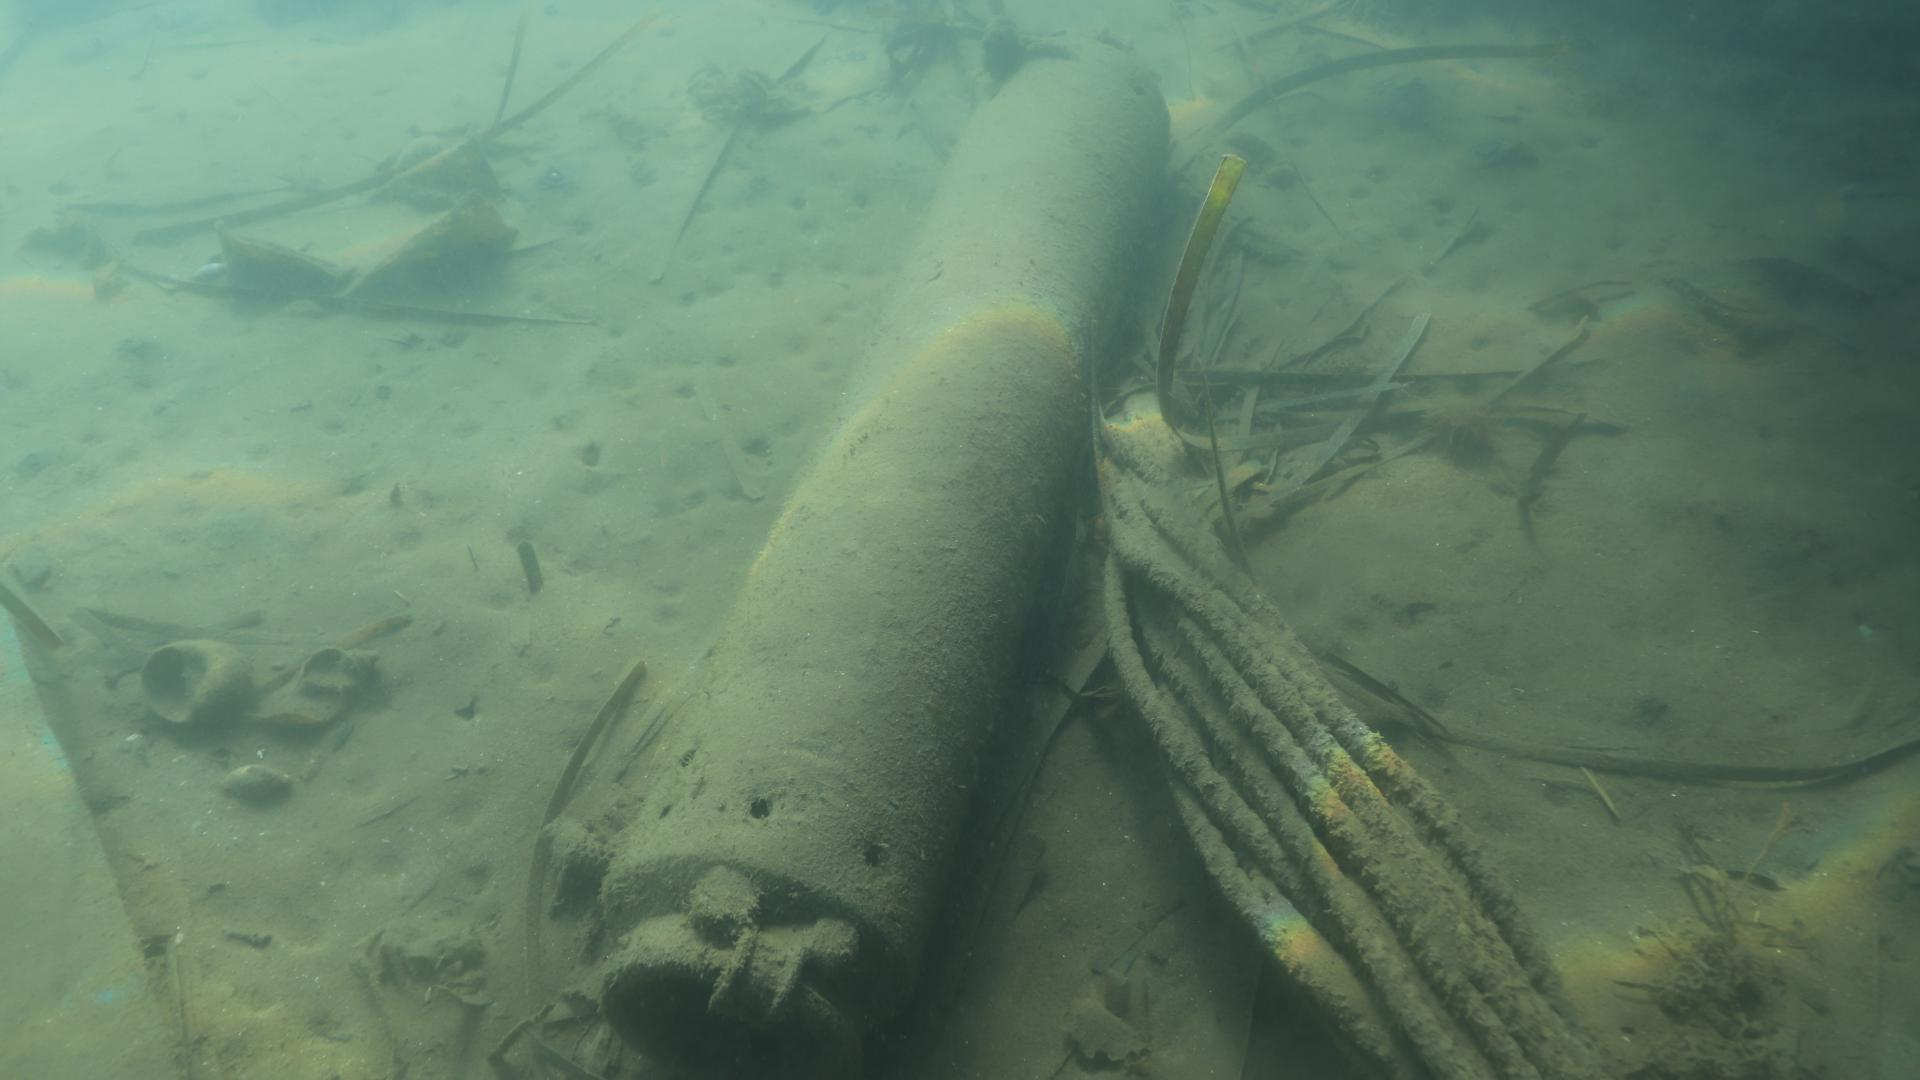bundle of ropes: (1098, 418, 1611, 1080)
eel fish trap: (596, 26, 1174, 1080)
